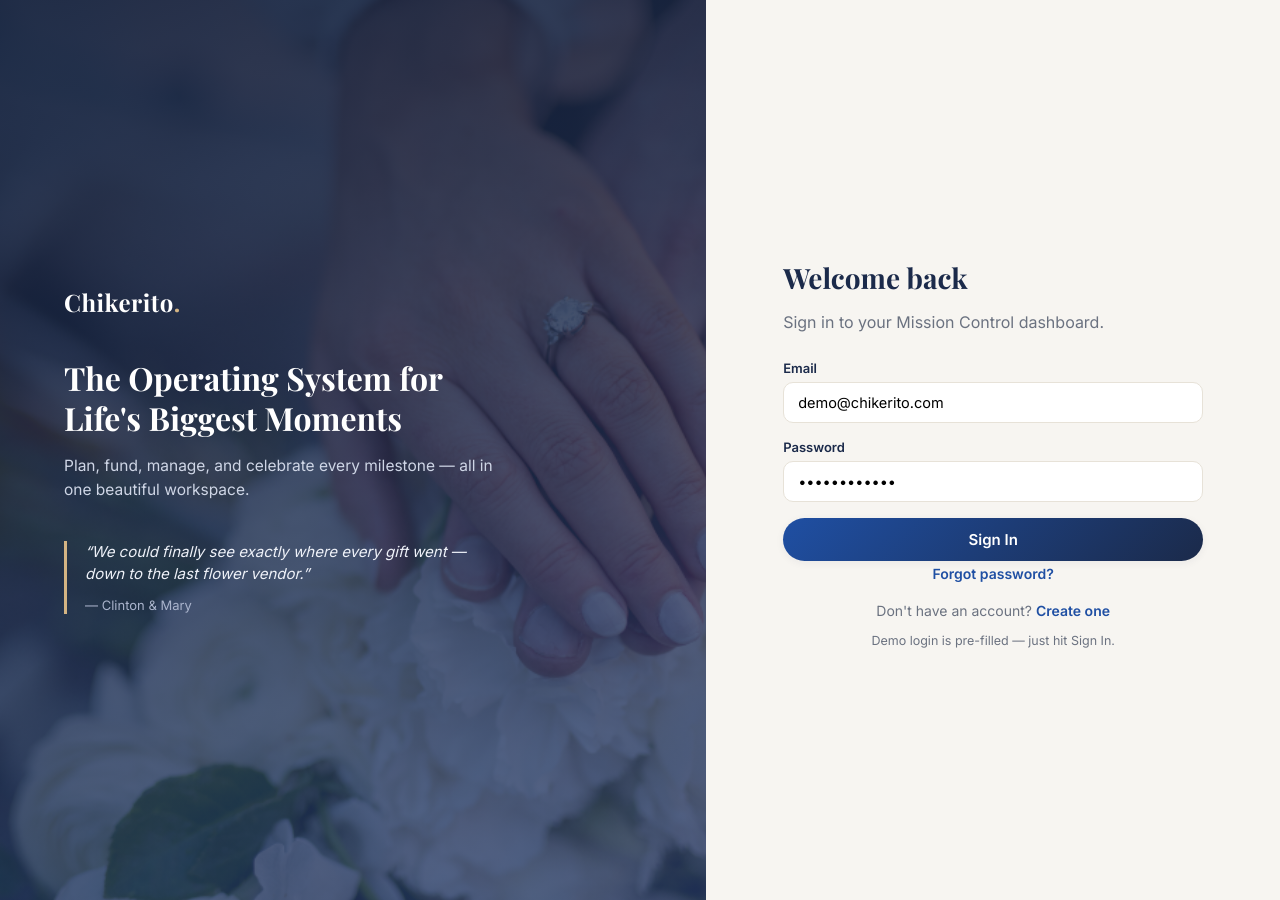
it: Login › shows the server error and does not navigate on failed login
Click the button "Sign In".
click(993, 539)  # box [783, 518, 1203, 561]
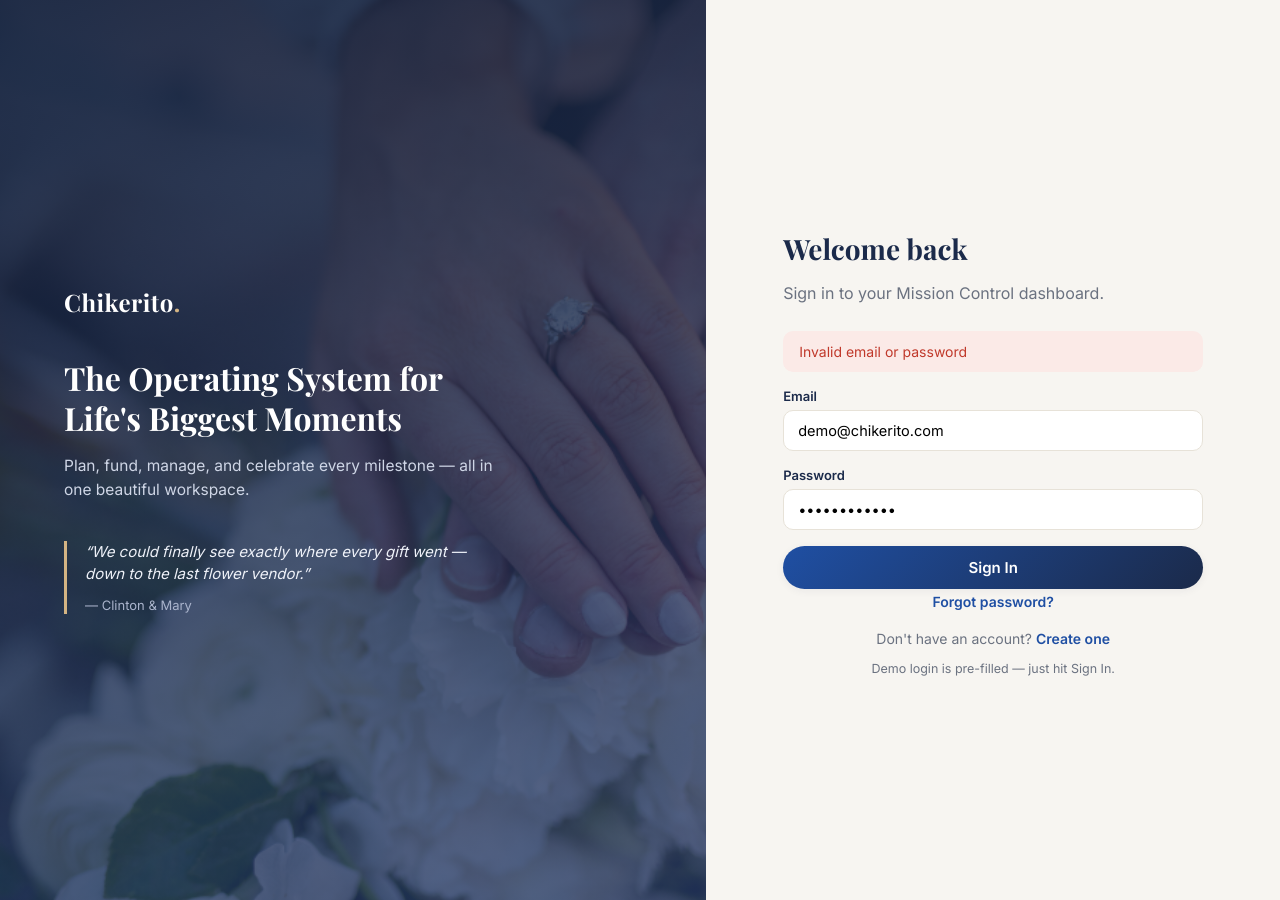
Expected: the text "Invalid email or password" is shown, [783, 331, 1203, 372]
